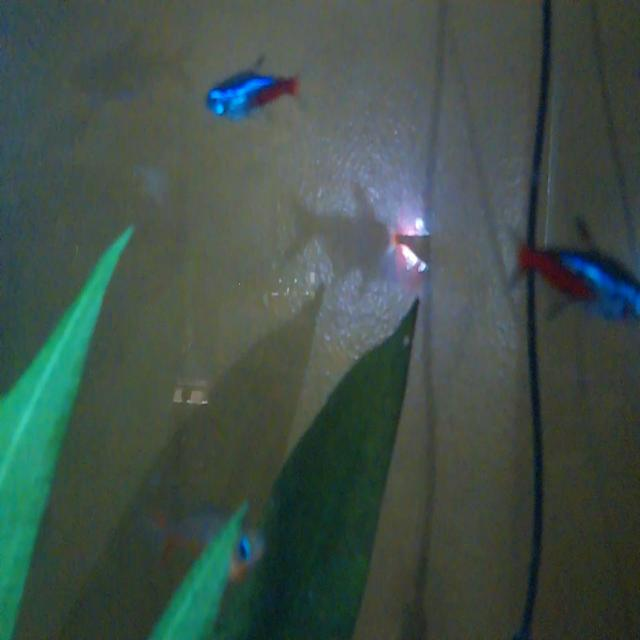fish: (493, 208, 639, 331), (192, 47, 308, 133)
